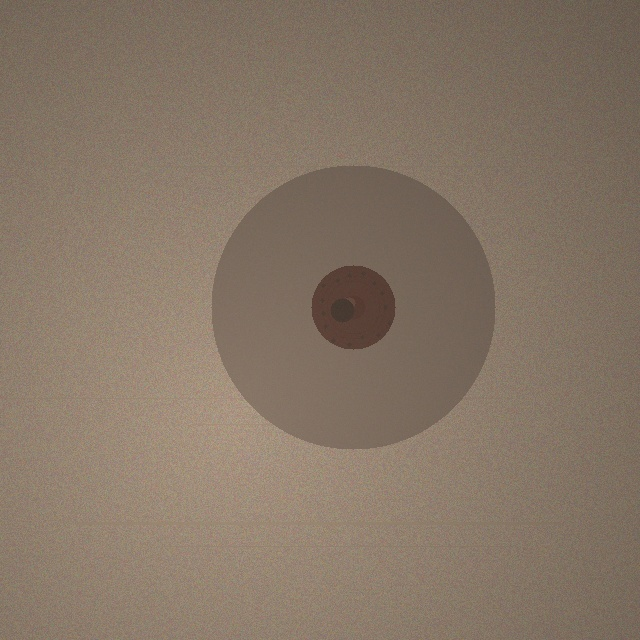cold_weld: (211, 165, 495, 449)
